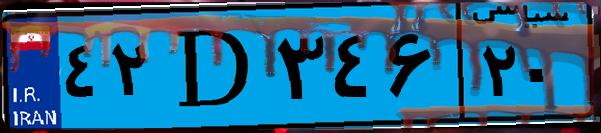0: (525, 38, 570, 115)
2: (475, 38, 525, 113), (110, 28, 158, 98)
3: (270, 28, 330, 110)
4: (330, 28, 385, 110), (57, 26, 110, 100)
6: (385, 28, 445, 110)
D: (158, 12, 270, 120)
